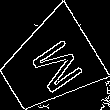M_SW: (18, 31, 81, 97)
